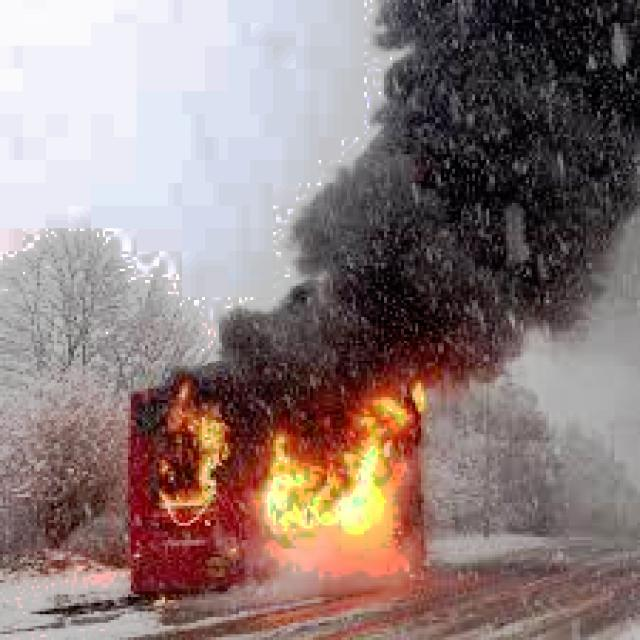api: (141, 367, 448, 555)
